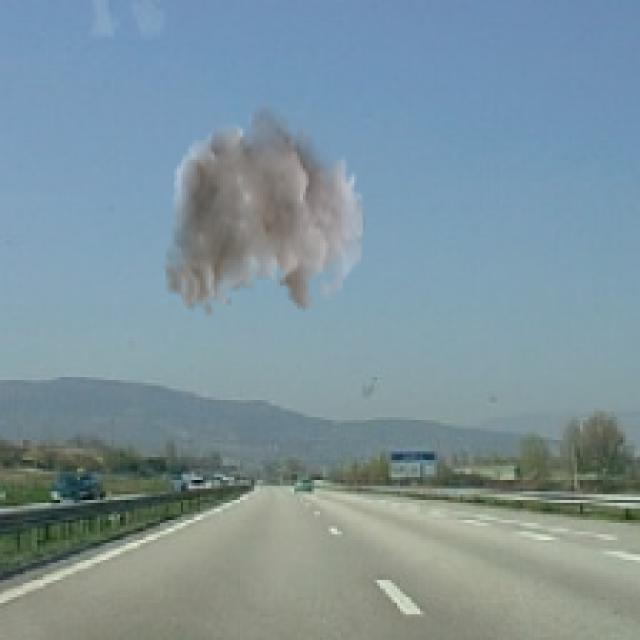Smoke: (163, 97, 366, 317)
